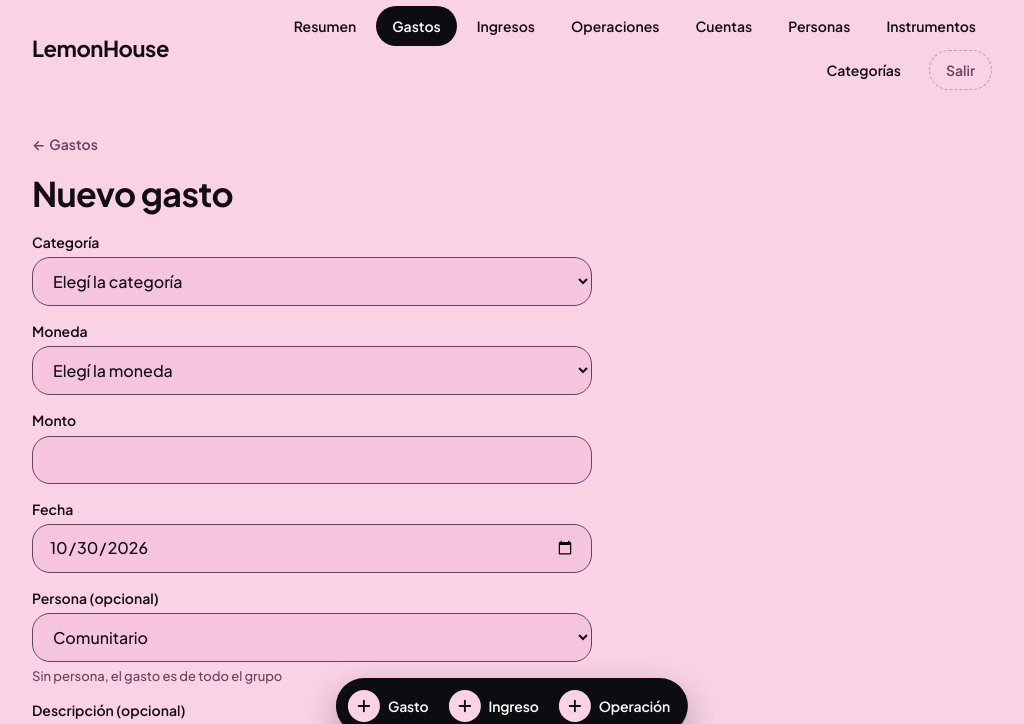
Scenario: gastos › un gasto se guarda sin elegir persona, como comunitario (C16)
The image size is (1024, 724).
Check: the dropdown labelled "Persona (opcional)" shows "Comunitario", box [32,613,592,662]
Select "Comida" in the dropdown labelled "Categoría" at coordinates (312, 282), box [32,257,592,306]
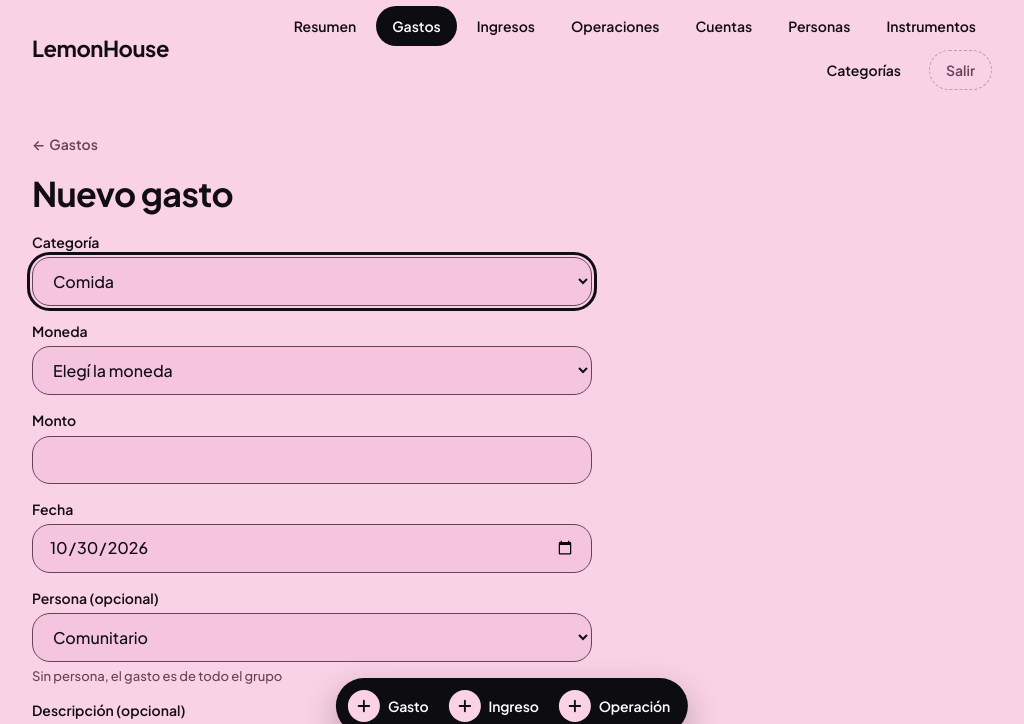
Select "Pesos" in the dropdown labelled "Moneda" at coordinates (312, 371), box [32,346,592,396]
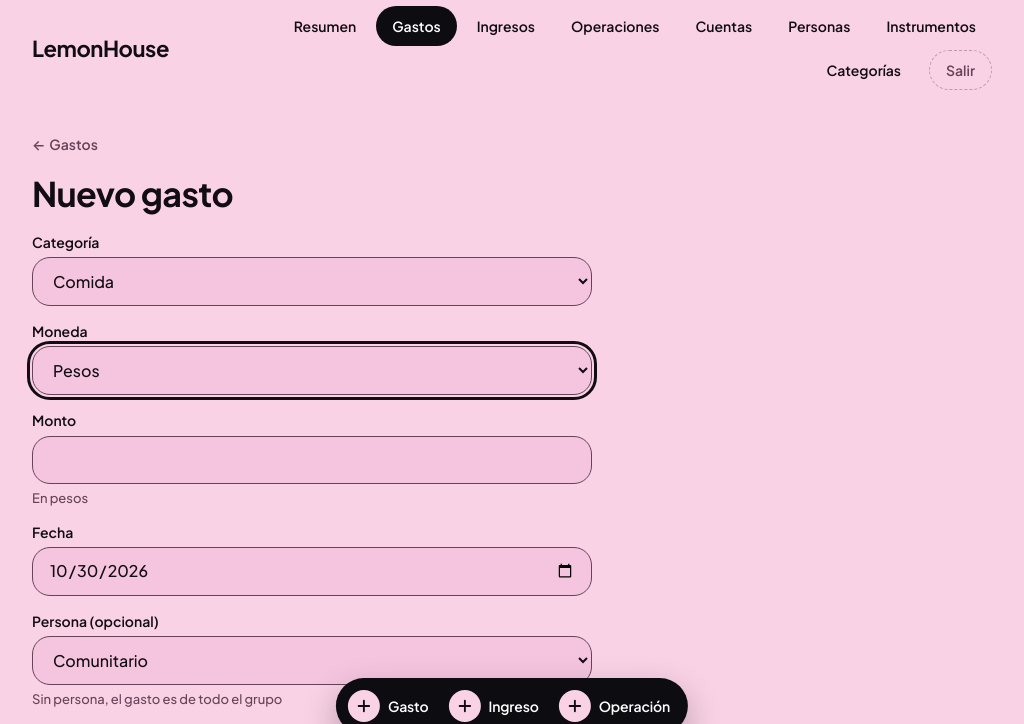
Type "1.234,56" into the field labelled "Monto" at coordinates (312, 460), box [32,436,592,484]
(page scrolled)
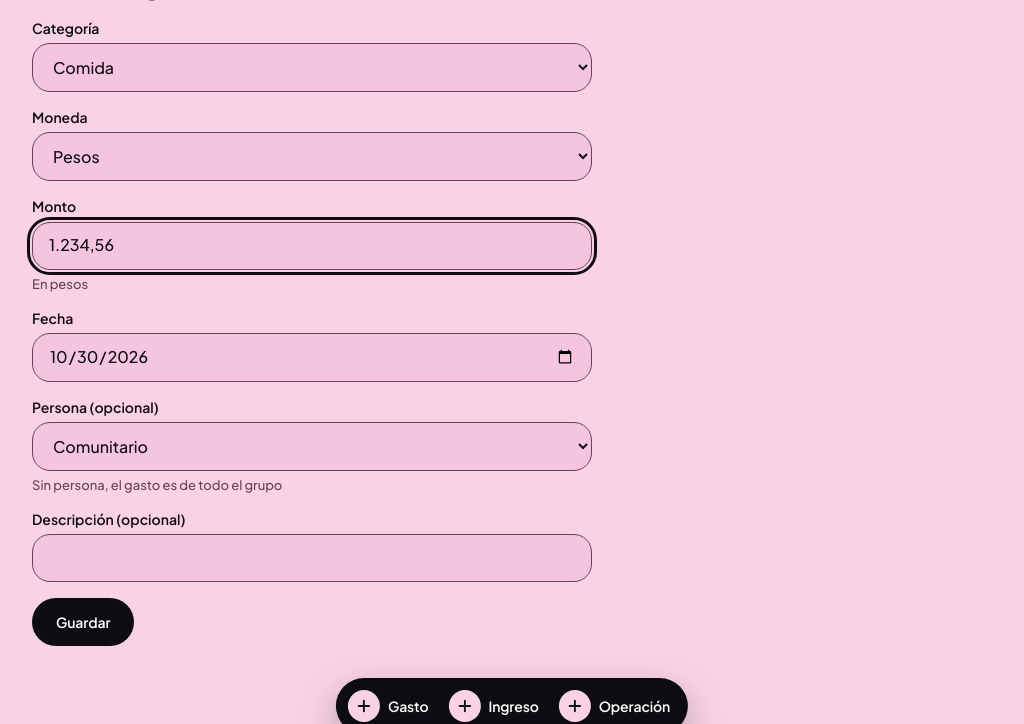
Click the button "Guardar" at coordinates (83, 622), box [32,598,134,646]
(page scrolled)
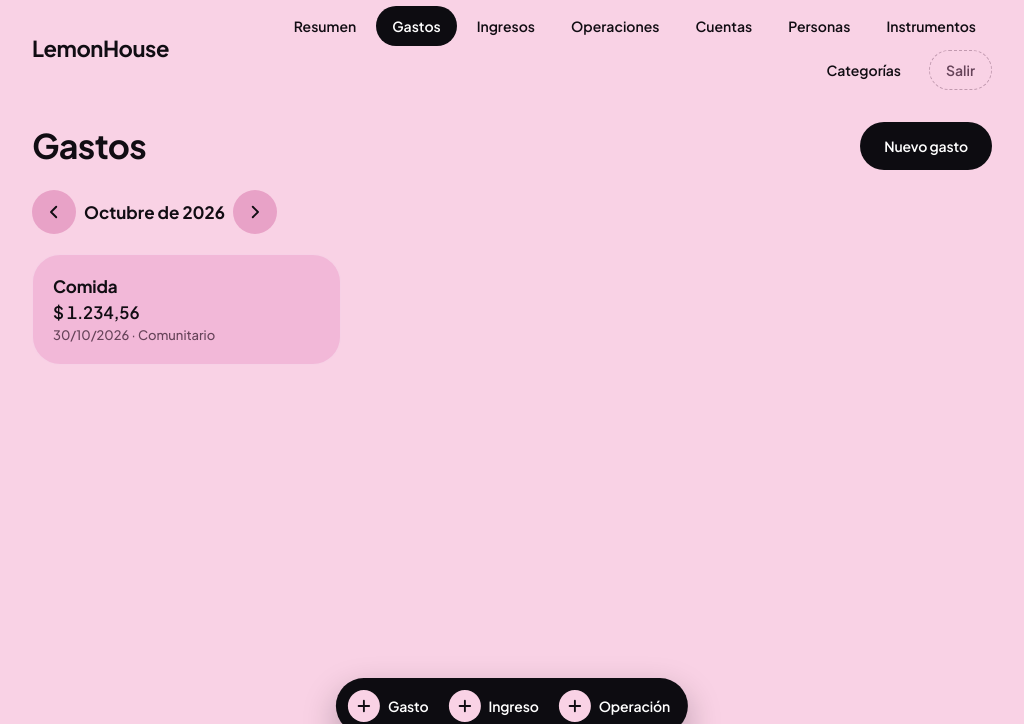
Check: the link "Comida $ 1.234,56 30/10/2026 · Comunitario" is shown, box [32,254,341,365]
